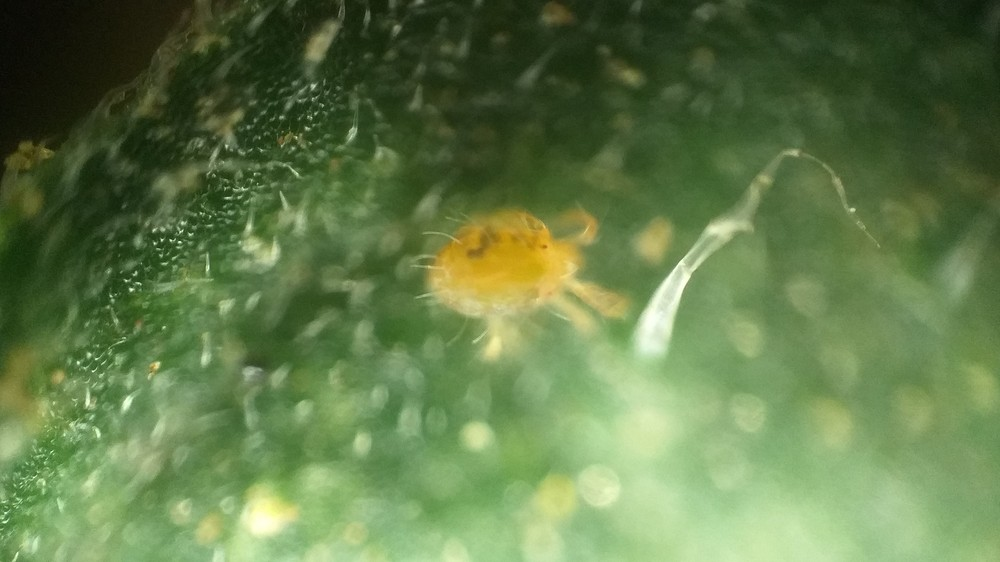Aracnido Rojo: (382, 184, 663, 368)
